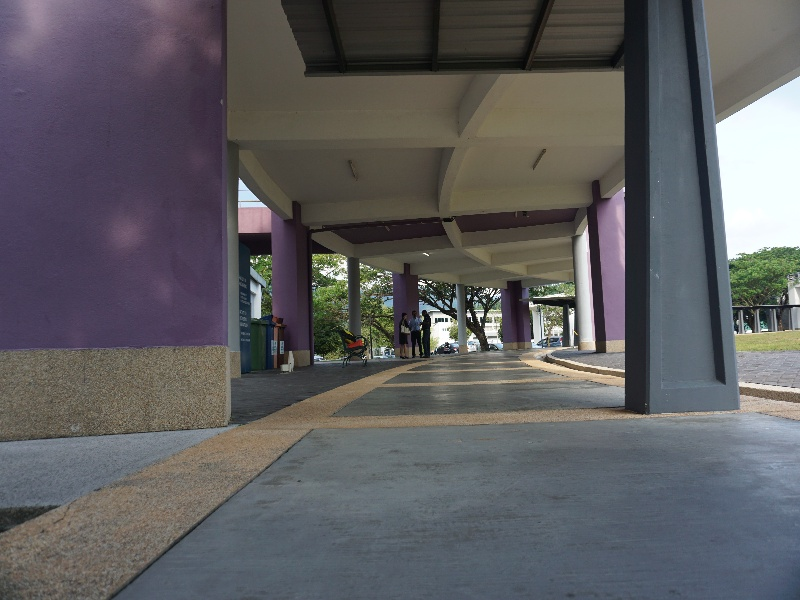Block D Pillar 1: (7, 8, 799, 488)
pillar: (615, 9, 752, 415)
